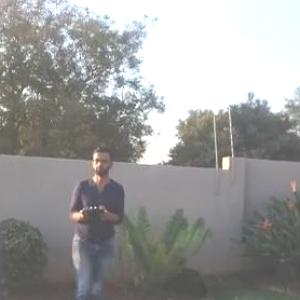follow: (59, 137, 128, 299)
